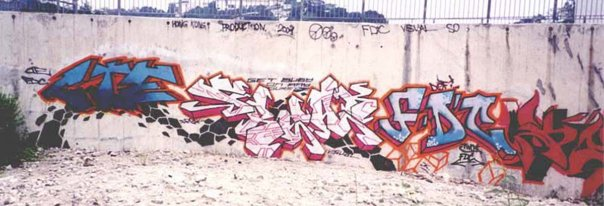graffity: (181, 72, 385, 169), (378, 84, 518, 173), (494, 94, 604, 204), (32, 51, 186, 118), (218, 18, 300, 43), (171, 14, 214, 38), (308, 24, 347, 48), (361, 22, 394, 40), (400, 23, 438, 35), (445, 22, 472, 37)
